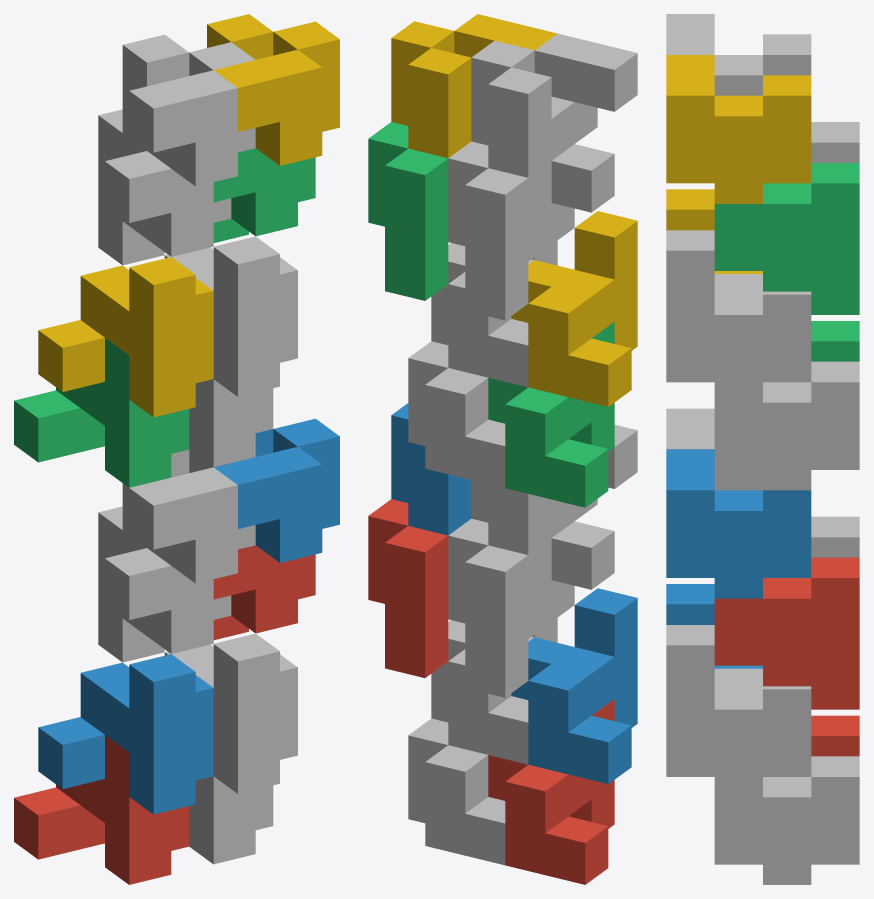
The model's file is tiling.obj.
3 renders of one model, left to right at view 1: azimuth 30°, elevation 25°; view 2: azimuth 150°, elevation 25°; view 3: azimuth 270°, elevation 25°, orthographic. The views are drawn at different scales.
Visible parts, largest first — view 1: copy_1_domain_4, copy_1_domain_2, copy_2_domain_4, copy_2_domain_8, copy_1_domain_1, copy_1_domain_3, copy_1_domain_8, copy_1_domain_6, copy_2_domain_6, copy_2_domain_3, copy_2_domain_1, copy_2_domain_2 (+4 smaller); view 2: copy_2_domain_4, copy_1_domain_2, copy_1_domain_4, copy_2_domain_3, copy_2_domain_1, copy_1_domain_1, copy_1_domain_3, copy_2_domain_8, copy_2_domain_7, copy_2_domain_5, copy_1_domain_5, copy_1_domain_7 (+4 smaller); view 3: copy_1_domain_8, copy_1_domain_6, copy_2_domain_8, copy_2_domain_5, copy_2_domain_7, copy_2_domain_6, copy_1_domain_7, copy_1_domain_5, copy_2_domain_4, copy_2_domain_2, copy_1_domain_4, copy_1_domain_2 (+4 smaller).
Part boxes in pixels (box(x1,y1,x2,y2)): copy_1_domain_4: box(38, 257, 213, 417); copy_1_domain_2: box(38, 654, 213, 814); copy_2_domain_4: box(122, 34, 255, 186); copy_2_domain_8: box(207, 14, 339, 165); copy_1_domain_1: box(14, 735, 189, 884); copy_1_domain_3: box(14, 338, 189, 487); copy_1_domain_8: box(164, 236, 297, 396); copy_1_domain_6: box(164, 633, 297, 793); copy_2_domain_6: box(214, 418, 339, 562); copy_2_domain_3: box(98, 109, 231, 265); copy_2_domain_1: box(98, 506, 231, 662); copy_2_domain_2: box(122, 449, 255, 583); copy_2_domain_4: box(471, 33, 637, 219); copy_1_domain_2: box(511, 588, 637, 784); copy_1_domain_4: box(511, 211, 637, 406); copy_2_domain_3: box(448, 141, 614, 320); copy_2_domain_1: box(448, 518, 614, 697); copy_1_domain_1: box(488, 699, 614, 884); copy_1_domain_3: box(488, 322, 614, 507); copy_2_domain_8: box(391, 14, 557, 158); copy_2_domain_7: box(368, 122, 448, 300); copy_2_domain_5: box(368, 499, 448, 677); copy_1_domain_5: box(408, 718, 505, 865); copy_1_domain_7: box(408, 341, 505, 487); copy_1_domain_8: box(666, 230, 811, 402); copy_1_domain_6: box(666, 625, 811, 797); copy_2_domain_8: box(666, 55, 811, 203); copy_2_domain_5: box(714, 557, 859, 709); copy_2_domain_7: box(714, 163, 859, 314); copy_2_domain_6: box(666, 449, 811, 598); copy_1_domain_7: box(714, 361, 859, 490); copy_1_domain_5: box(714, 756, 859, 884); copy_2_domain_4: box(666, 14, 811, 95); copy_2_domain_2: box(666, 408, 762, 490); copy_1_domain_4: box(666, 189, 762, 273); copy_1_domain_2: box(666, 584, 762, 668).
Size of the model in its own units: 6 by 18 by 4.
